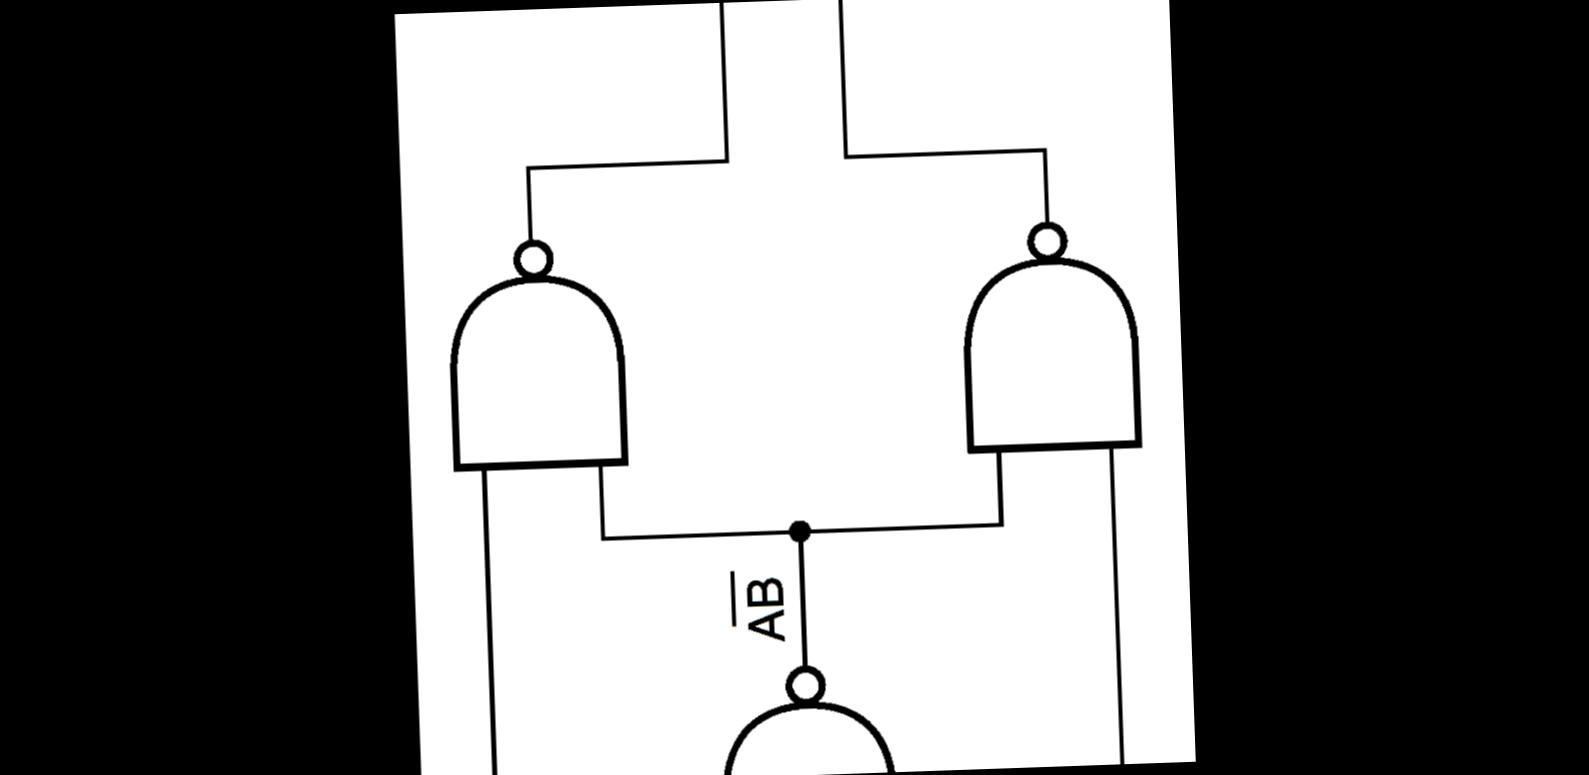nand: (430, 216, 653, 494), (944, 202, 1155, 467), (698, 645, 908, 775)
